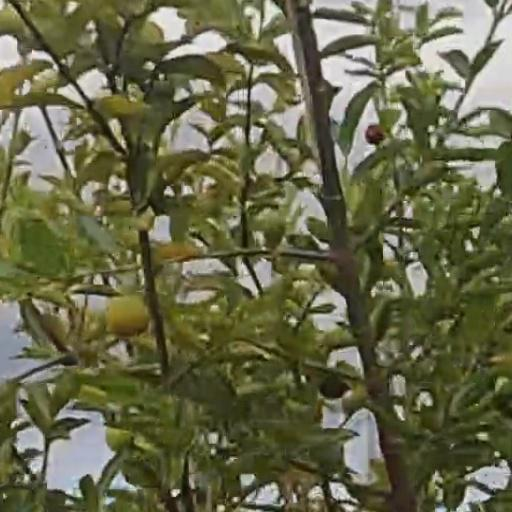acerola: (108, 295, 150, 334)
